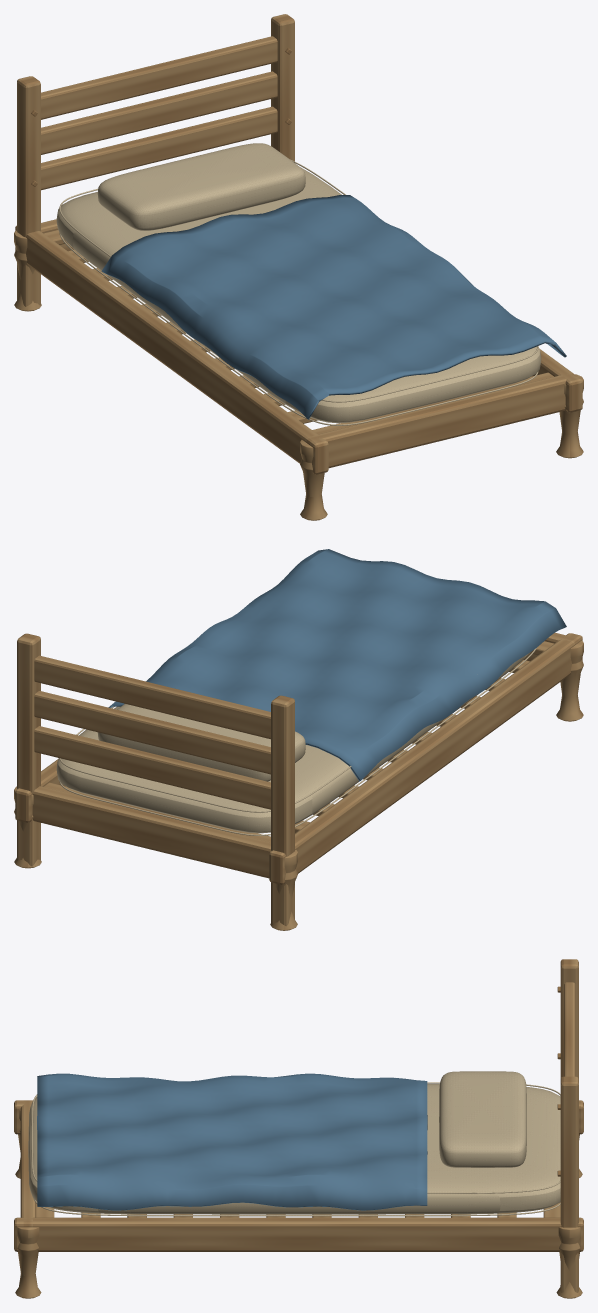
Rendered from bed_large.glb.
3 renders of one model, top to bottom at view 1: azimuth 30°, elevation 25°; view 2: azimuth 150°, elevation 25°; view 3: azimuth 270°, elevation 25°, orthographic. The views are drawn at different scales.
Visible parts, largest first — view 1: duvet_sculpted_folds.001, mattress.001, mortised_side_rail.002, pillow.001, end_rail.002, head_slat.003, head_slat.004, head_slat.005, head_post.002, head_post.003, turned_bed_foot.004, mattress_lower_piping.001 (+5 smaller); view 2: duvet_sculpted_folds.001, mortised_side_rail.002, mattress.001, end_rail.003, head_slat.005, head_slat.003, head_slat.004, head_post.002, head_post.003, pillow.001, turned_bed_foot.004, mattress_lower_piping.001 (+4 smaller); view 3: duvet_sculpted_folds.001, mortised_side_rail.003, mattress.001, pillow.001, head_post.003, turned_bed_foot.006, end_rail.002, head_post.002, head_slat.005, mattress_lower_piping.001, turned_bed_foot.007, mattress_upper_piping.001.
Part boxes in pixels (left/top/right/bottom): duvet_sculpted_folds.001: left=101, top=195, right=566, bottom=419; mattress.001: left=56, top=167, right=541, bottom=423; mortised_side_rail.002: left=15, top=225, right=328, bottom=474; pillow.001: left=97, top=143, right=305, bottom=230; end_rail.002: left=305, top=373, right=576, bottom=468; head_slat.003: left=41, top=106, right=277, bottom=190; head_slat.004: left=41, top=71, right=277, bottom=154; head_slat.005: left=41, top=36, right=277, bottom=119; head_post.002: left=17, top=76, right=40, bottom=306; head_post.003: left=271, top=14, right=294, bottom=161; turned_bed_foot.004: left=300, top=439, right=327, bottom=520; mattress_lower_piping.001: left=59, top=233, right=538, bottom=425; duvet_sculpted_folds.001: left=108, top=549, right=566, bottom=781; mortised_side_rail.002: left=269, top=633, right=582, bottom=884; mattress.001: left=56, top=651, right=531, bottom=833; end_rail.003: left=32, top=786, right=270, bottom=878; head_slat.005: left=34, top=655, right=270, bottom=739; head_slat.003: left=34, top=726, right=270, bottom=809; head_slat.004: left=34, top=691, right=270, bottom=774; head_post.002: left=271, top=695, right=294, bottom=926; head_post.003: left=17, top=633, right=40, bottom=866; pillow.001: left=97, top=704, right=305, bottom=781; turned_bed_foot.004: left=556, top=640, right=583, bottom=721; mattress_lower_piping.001: left=59, top=648, right=536, bottom=835; duvet_sculpted_folds.001: left=37, top=1073, right=427, bottom=1210; mortised_side_rail.003: left=14, top=1217, right=583, bottom=1251; mattress.001: left=28, top=1084, right=560, bottom=1214; pillow.001: left=439, top=1071, right=526, bottom=1167; head_post.003: left=560, top=1076, right=578, bottom=1292; turned_bed_foot.006: left=15, top=1227, right=41, bottom=1298; end_rail.002: left=20, top=1100, right=35, bottom=1227; head_post.002: left=560, top=959, right=578, bottom=1078; head_slat.005: left=564, top=982, right=575, bottom=1076; mattress_lower_piping.001: left=33, top=1198, right=560, bottom=1216; turned_bed_foot.007: left=556, top=1227, right=582, bottom=1298; mattress_upper_piping.001: left=31, top=1082, right=560, bottom=1193.
Bounding box in the file's own units: 1.5 × 1.16 × 2.79.
Materials: 4 (3 with a texture image).
